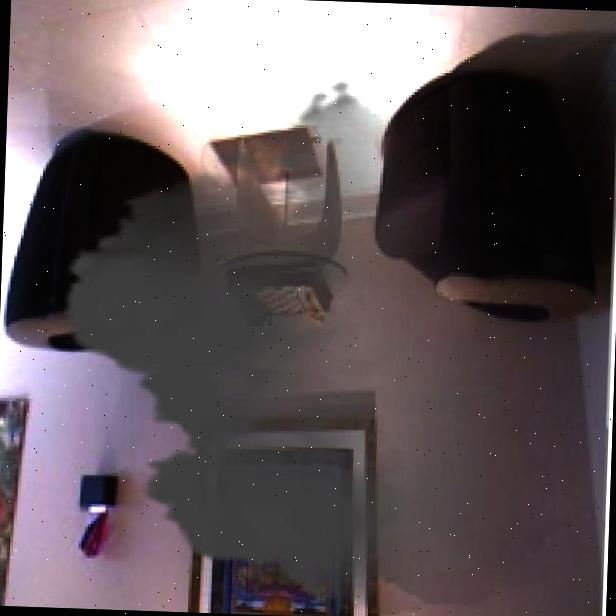smoke: (34, 67, 600, 616)
